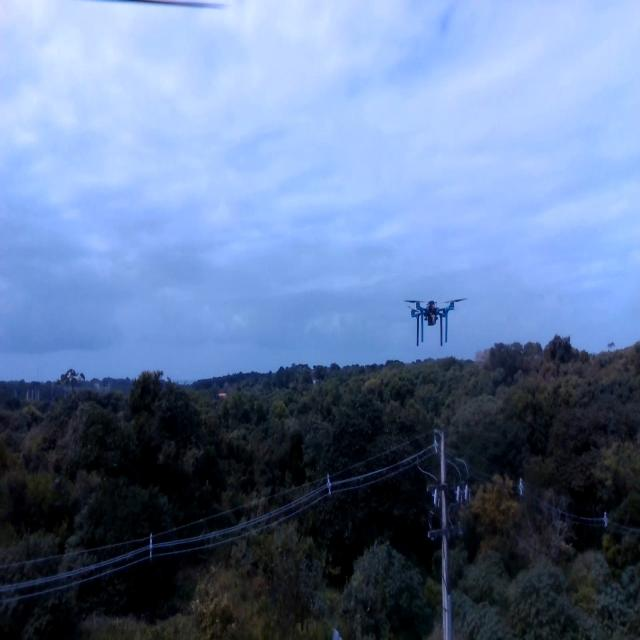-uav-: (397, 279, 472, 356)
